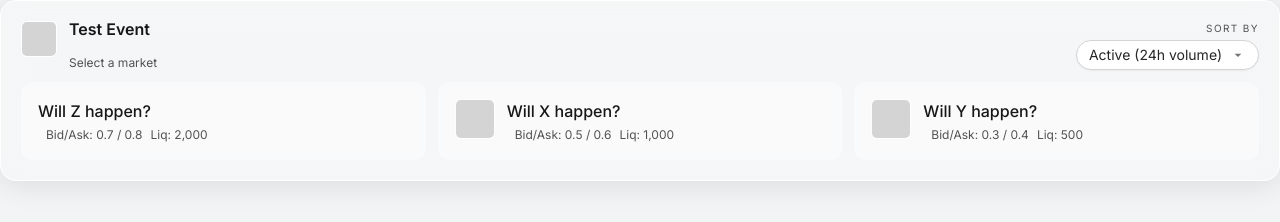
Test: MarketSelection Component › changes sort option to 'soonest'
Click the button "Active (24h volume)" at {"x": 1168, "y": 55}, box [1076,40,1259,70]
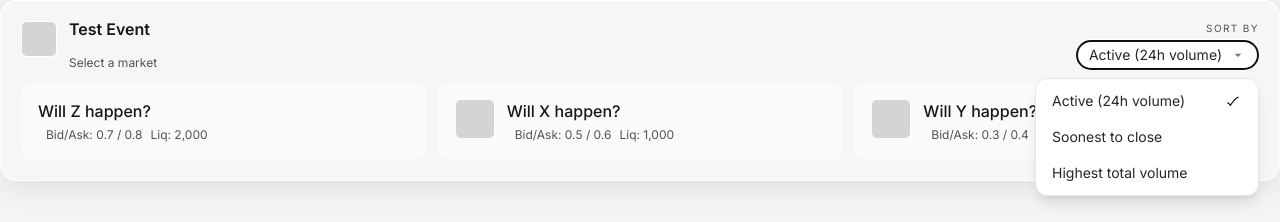
Click the option "Soonest to close" at {"x": 1147, "y": 137}, box [1040,119,1254,155]
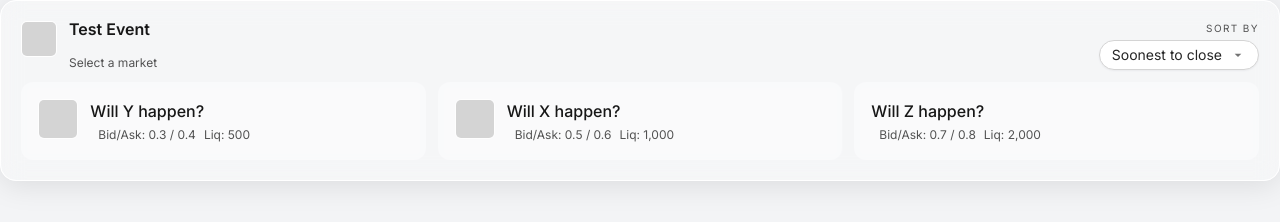
Check: the text "Soonest to close" is shown, box [1112,45,1222,65]
Check: the list is gone
